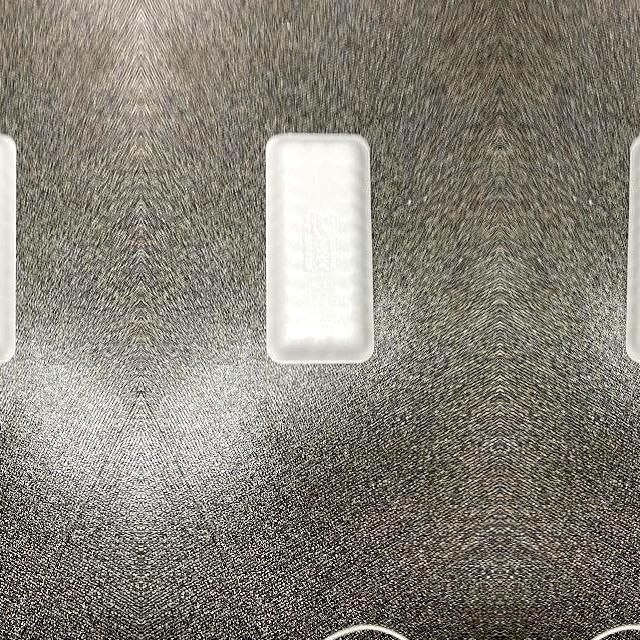Styrofoam: (262, 131, 374, 365), (265, 133, 373, 364)
